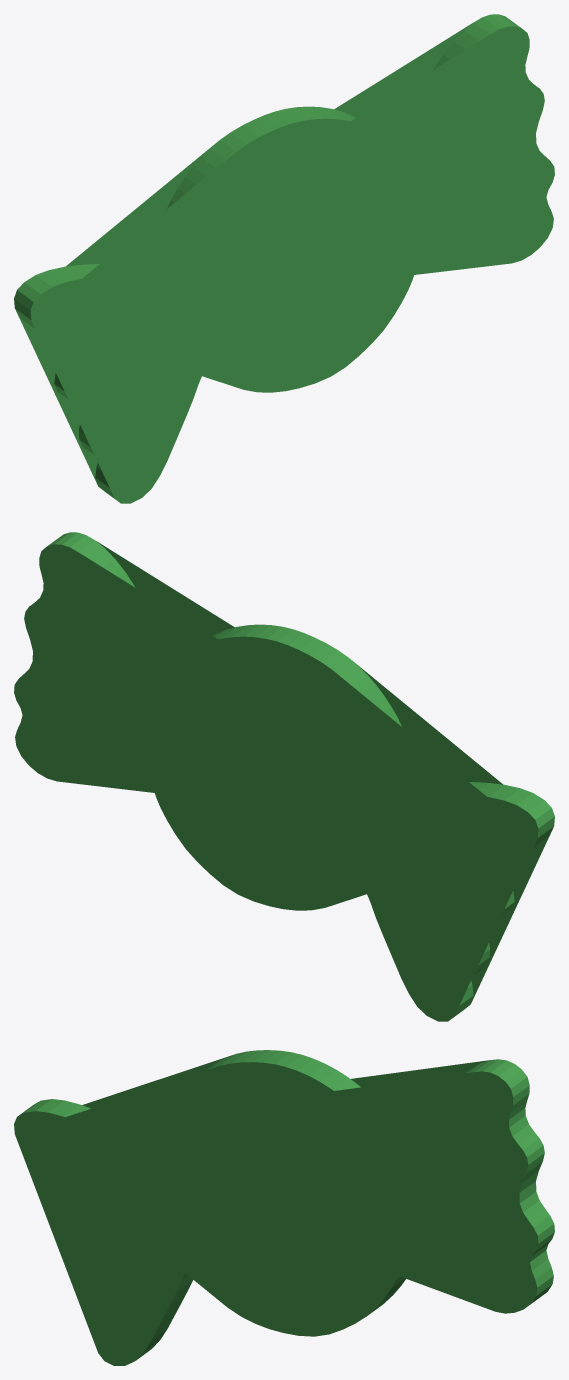
The model's file is symbol6.fbx.
3 views of the same model, one above another, from view 1: azimuth 30°, elevation 25°; view 2: azimuth 150°, elevation 25°; view 3: azimuth 330°, elevation 25° (orthographic).
Visible parts, largest first — view 1: Plane.005; view 2: Plane.005; view 3: Plane.005.
Boxes of the visible parts, x1,y1,x2,y2 form: Plane.005: [14, 14, 554, 503]; Plane.005: [14, 532, 554, 1021]; Plane.005: [14, 1050, 554, 1365].
Size of the model in its own units: 21.89 by 15.36 by 1.2.
